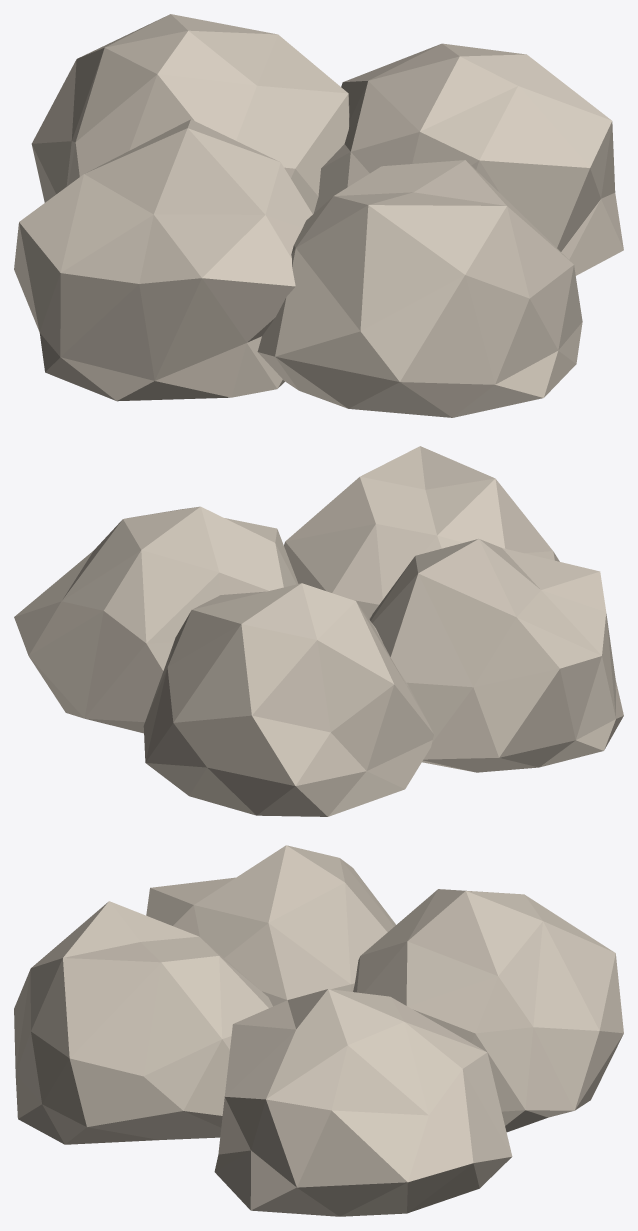
The model's file is chibi_rocks.glb.
3 views of the same model, one above another, from view 1: azimuth 30°, elevation 25°; view 2: azimuth 150°, elevation 25°; view 3: azimuth 270°, elevation 25° (orthographic). The views are drawn at different scales.
Visible parts, largest first — view 1: ChibiRocks; view 2: ChibiRocks; view 3: ChibiRocks.
Boxes of the visible parts, left/top/right/bottom form: ChibiRocks: left=14, top=14, right=623, bottom=417; ChibiRocks: left=14, top=446, right=623, bottom=816; ChibiRocks: left=14, top=845, right=623, bottom=1216.
Bounding box in the file's own units: 0.6815 × 0.2239 × 0.6675.
